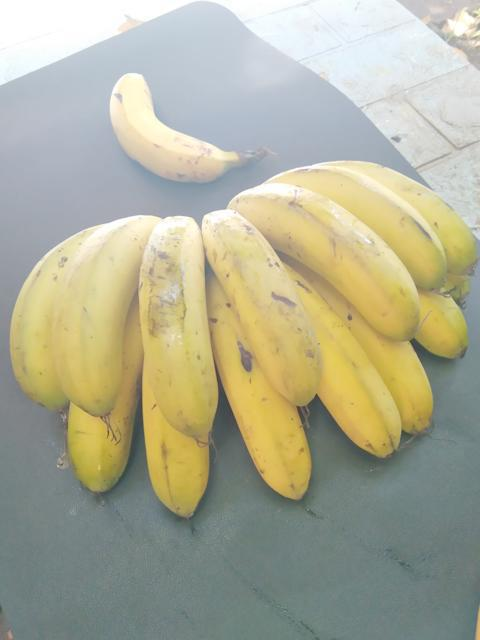ripe: (220, 162, 416, 332), (75, 42, 264, 183), (210, 185, 316, 407), (130, 209, 223, 445), (312, 289, 412, 467), (58, 210, 140, 425), (5, 213, 88, 409), (215, 354, 316, 481), (60, 385, 146, 517), (143, 405, 217, 523)
